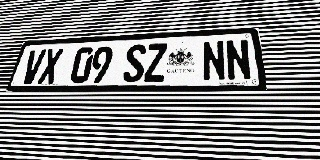0: (69, 47, 95, 83)
9: (88, 46, 114, 83)
N: (225, 39, 252, 81), (202, 40, 226, 81)
S: (122, 44, 147, 82)
V: (20, 49, 47, 84)
X: (37, 48, 64, 84)
Z: (144, 43, 167, 82)
